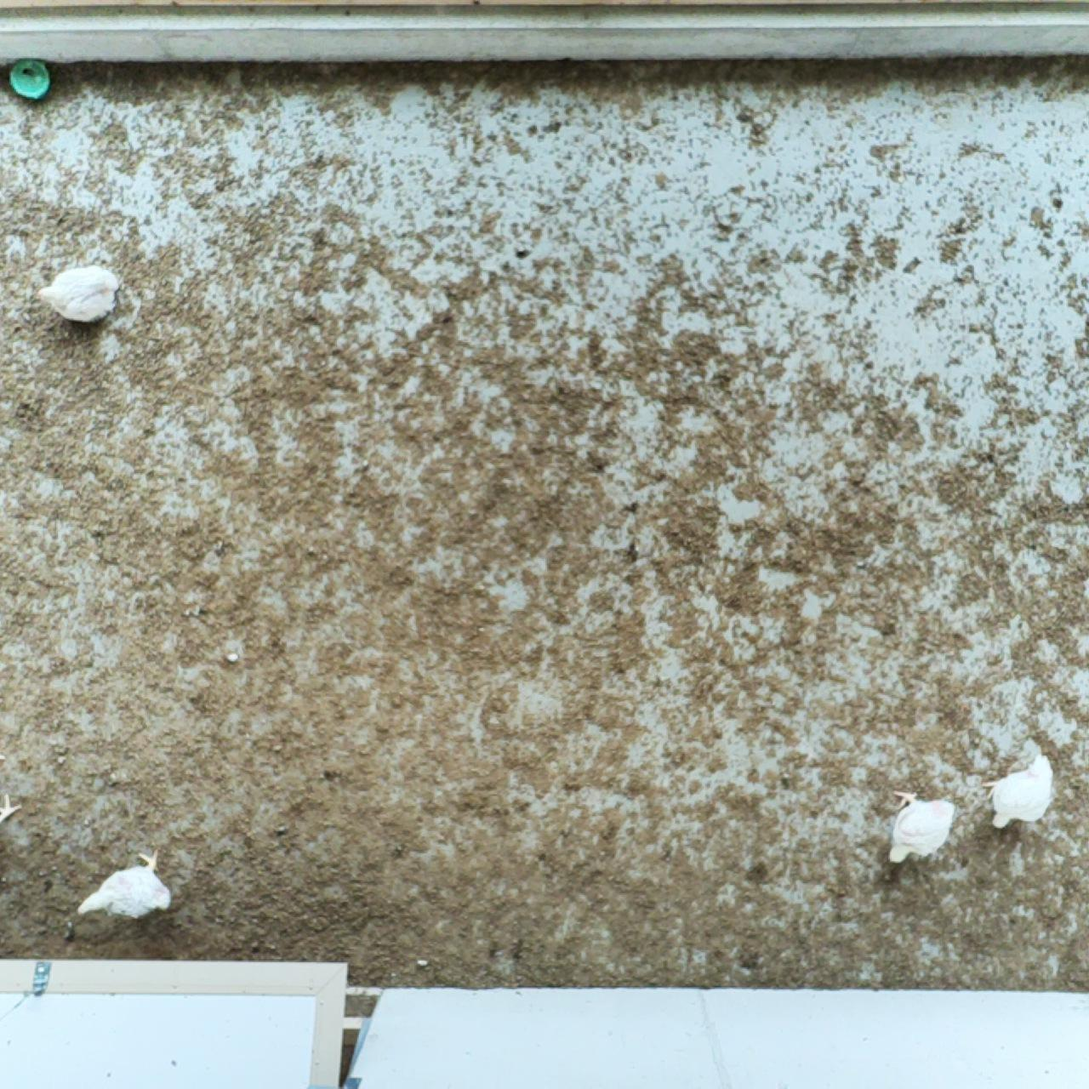chicken: (73, 842, 182, 924), (881, 783, 966, 871), (982, 745, 1063, 835), (27, 258, 128, 330)
